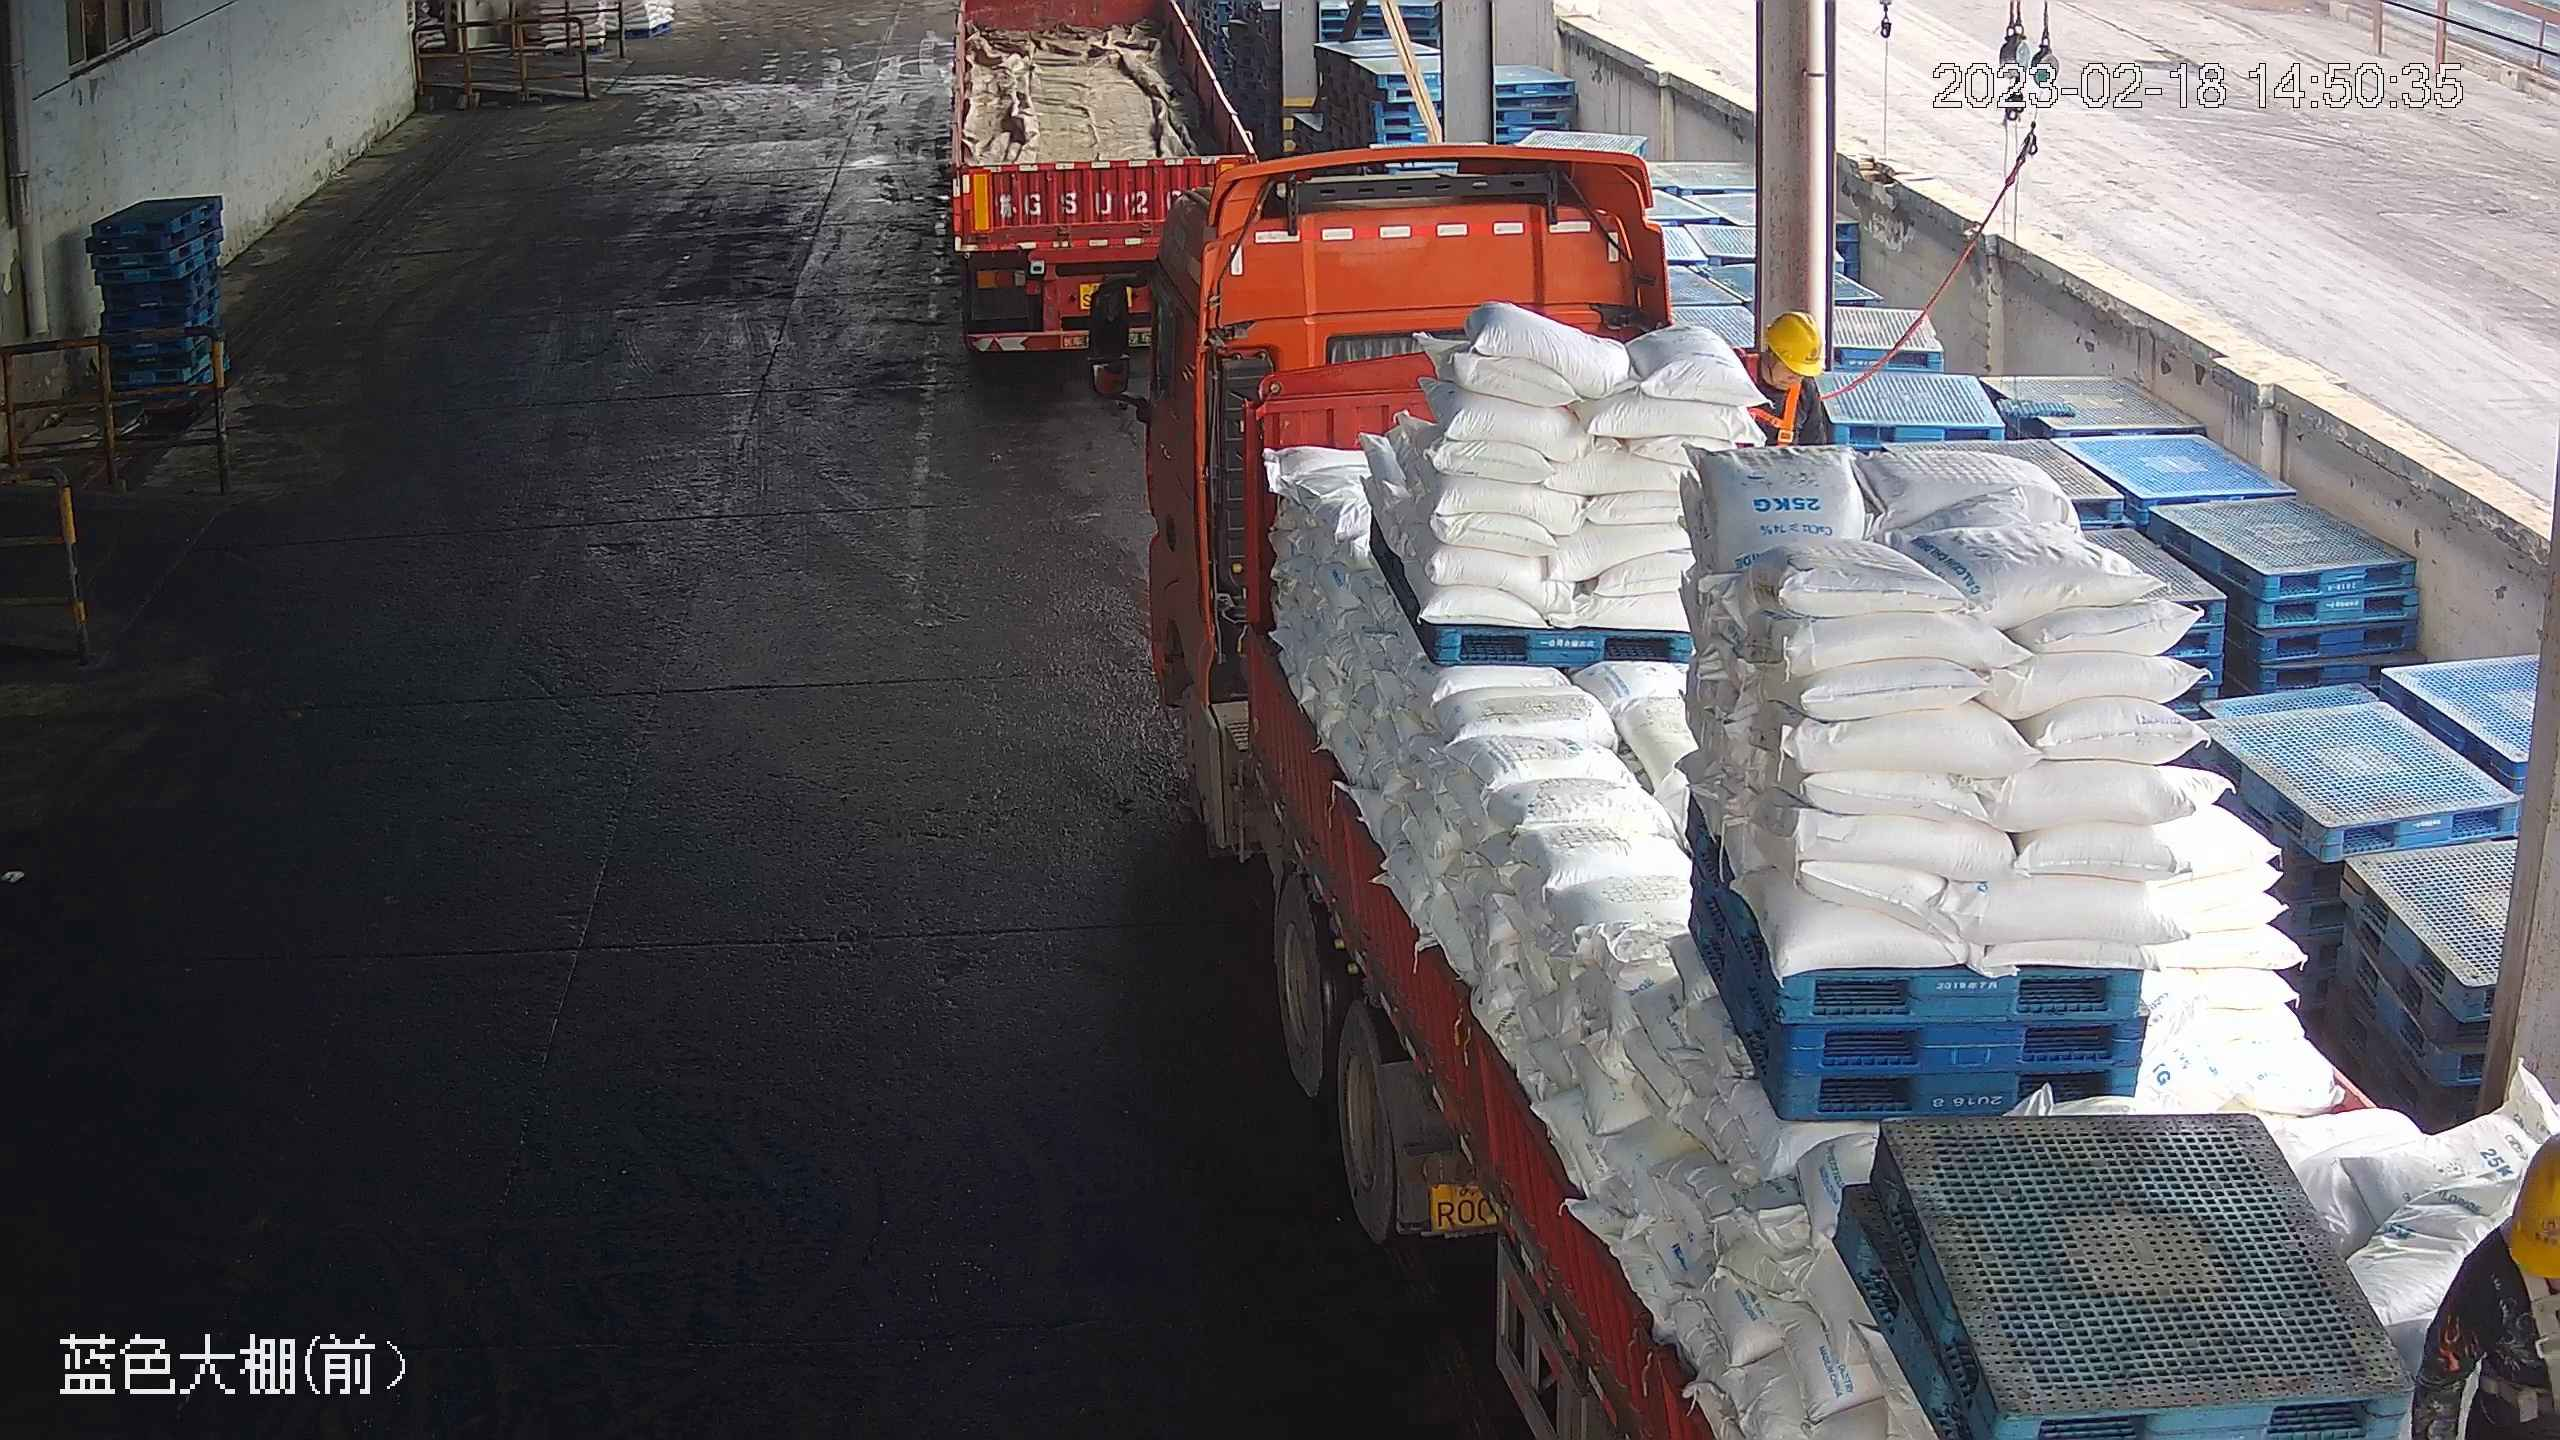belt: (1755, 375, 1807, 449)
head: (1747, 309, 1830, 408)
helmet: (1761, 308, 1829, 377)
truck: (1038, 161, 2560, 1438), (927, 3, 1296, 404)
